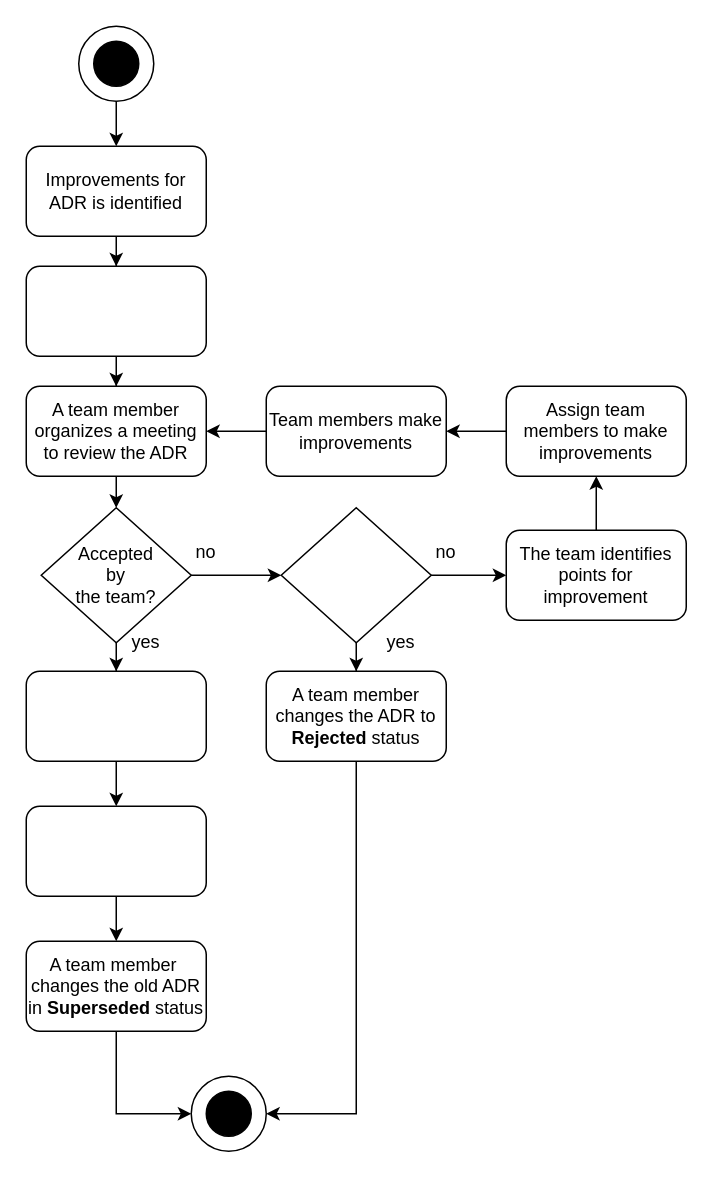
Image size: 713x1178. Some labels were removed from this diagram. The shapes that lost their labels are listed below. From the top down, each one's box as (x1, y1, x2, y2) in pixels, then its label:
(25, 265, 206, 356): A team member creates a new ADR in Proposed status
(280, 506, 431, 643): Rejected by the team?
(25, 670, 206, 761): A team member changes the new ADR in Accepted status
(25, 805, 206, 896): A team member indicates a link to the old ADR with the word Supersedes
